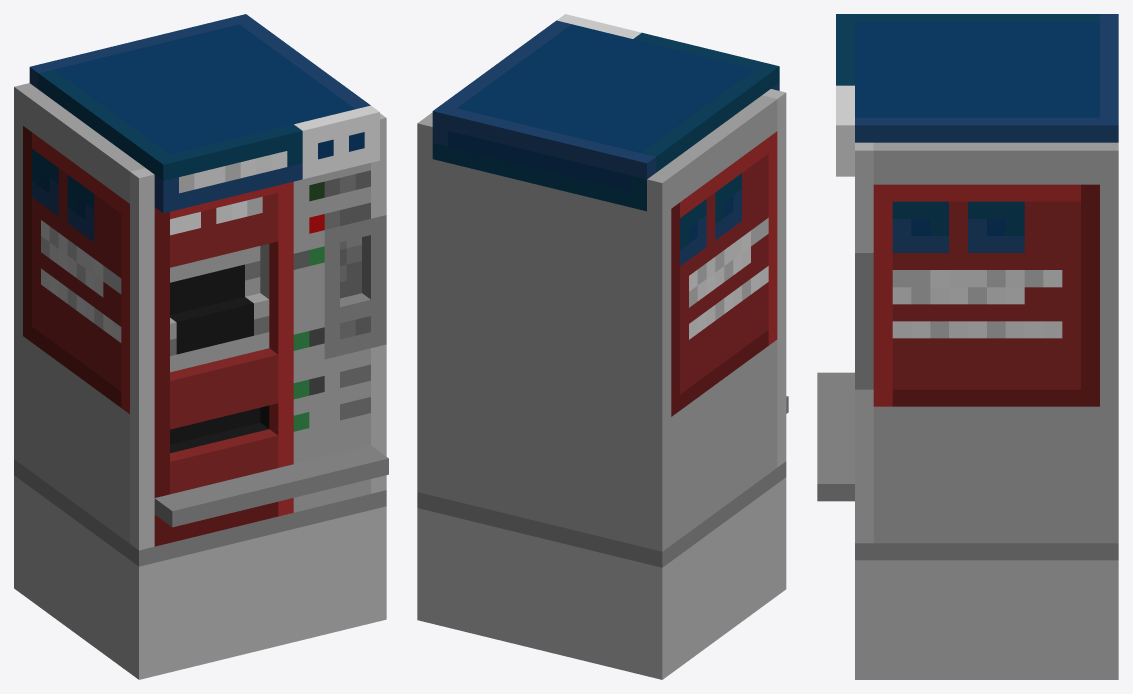
Rendered from fahrkartenautomat_db.obj.
3 views of the same model, side by side, from view 1: azimuth 30°, elevation 25°; view 2: azimuth 150°, elevation 25°; view 3: azimuth 270°, elevation 25° (orthographic). The views are drawn at different scales.
Parts seen in each view (by area): view 1: Polygon-Objekt; view 2: Polygon-Objekt; view 3: Polygon-Objekt.
Boxes of the visible parts, left/top/right/bottom form: Polygon-Objekt: left=14, top=14, right=388, bottom=679; Polygon-Objekt: left=417, top=14, right=788, bottom=679; Polygon-Objekt: left=817, top=14, right=1118, bottom=679.
Size of the model in its own units: 1 by 2 by 1.
